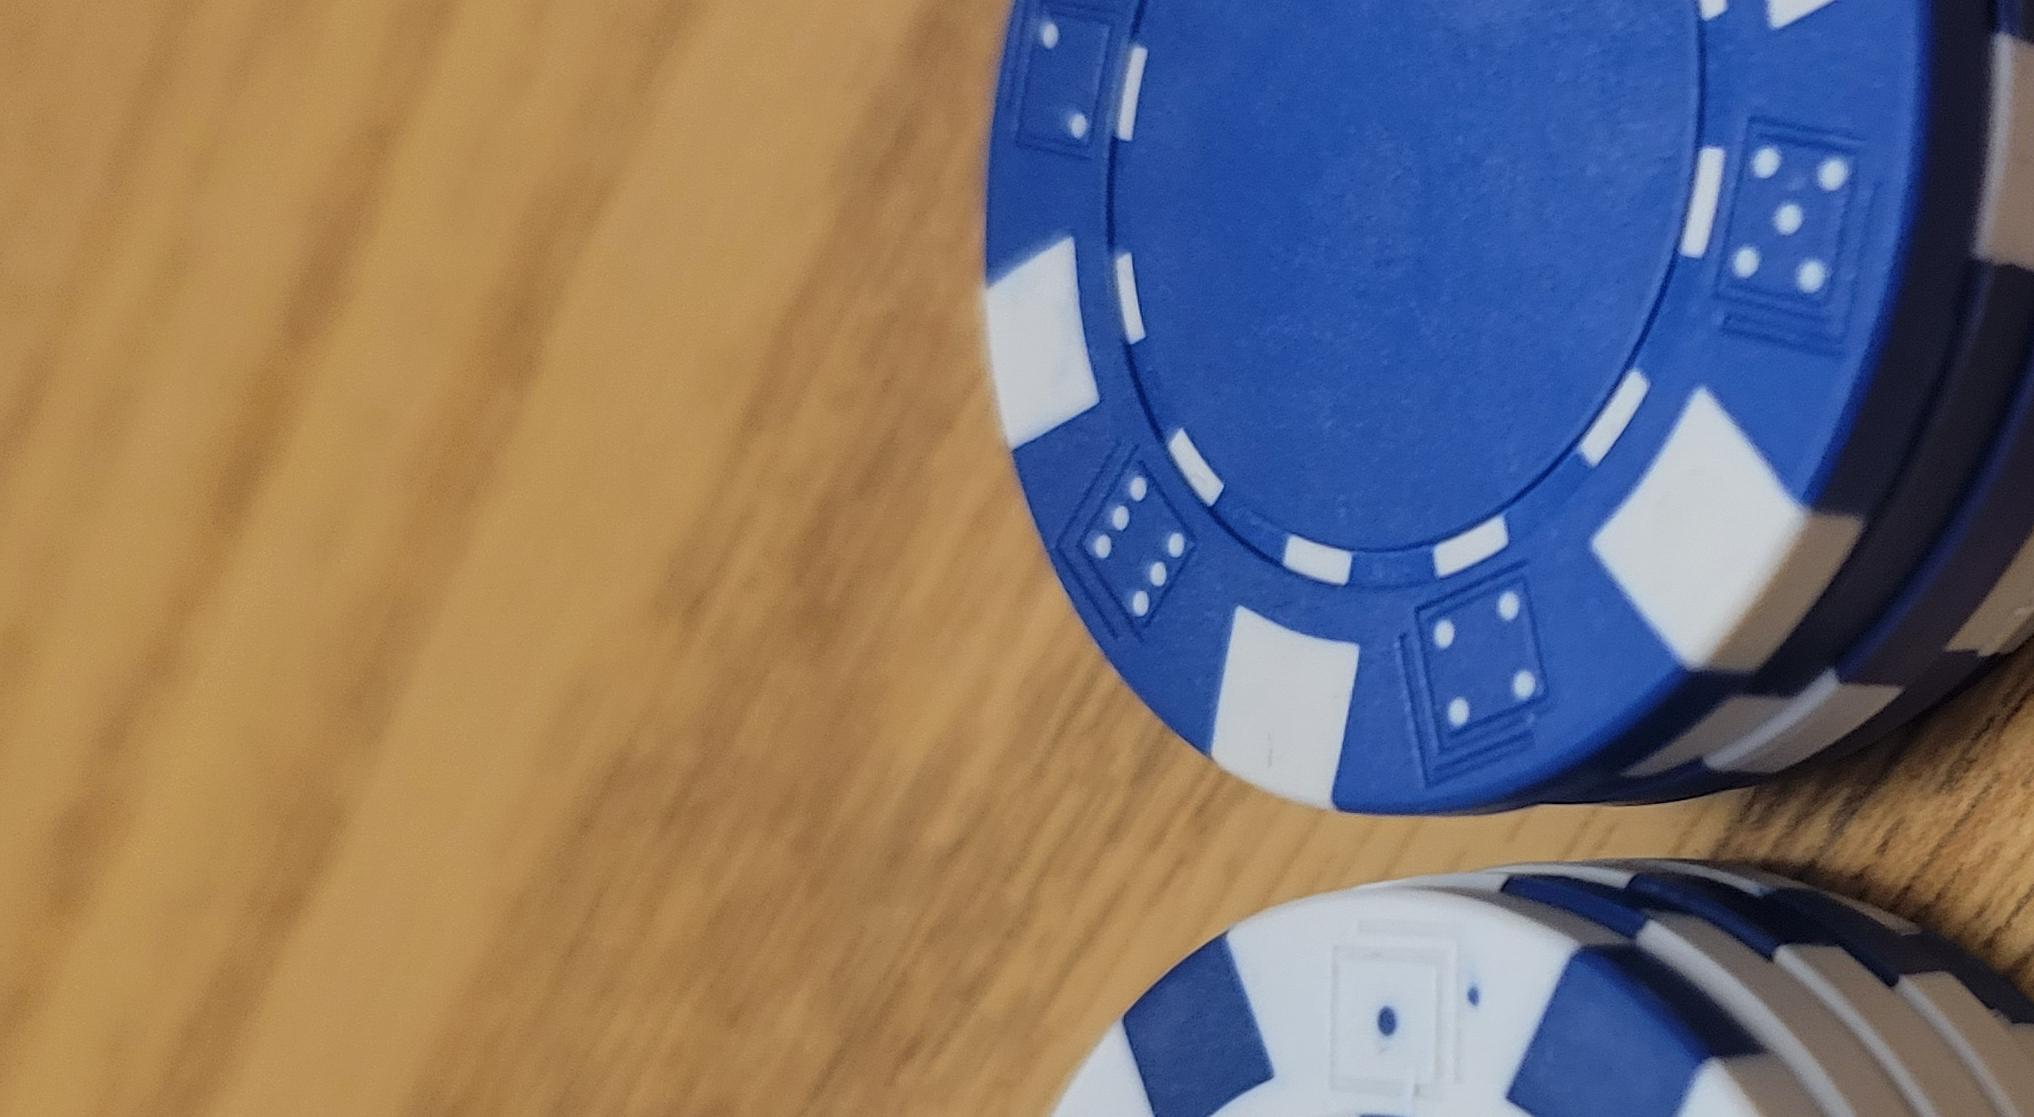Chip: (1, 239, 1507, 1117)
